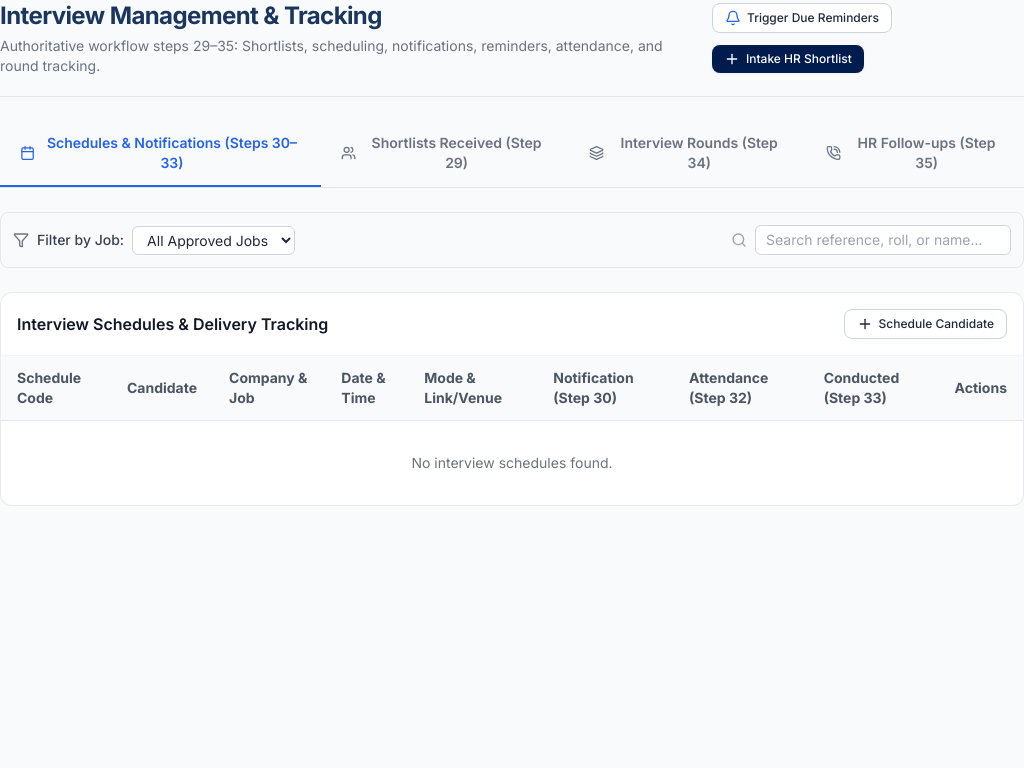
Frontend Interview Management & Tracking Suite (Phase 8 / Steps 29-35) › Step 29: displays shortlisted candidates and allows opening intake modal
// Click HR Shortlists Tab
What coordinates should you click on to do the following:
click the button with test id "tab-shortlists"
I would click on:
 (445, 154)
Its box is x1=321 y1=121 x2=569 y2=187.
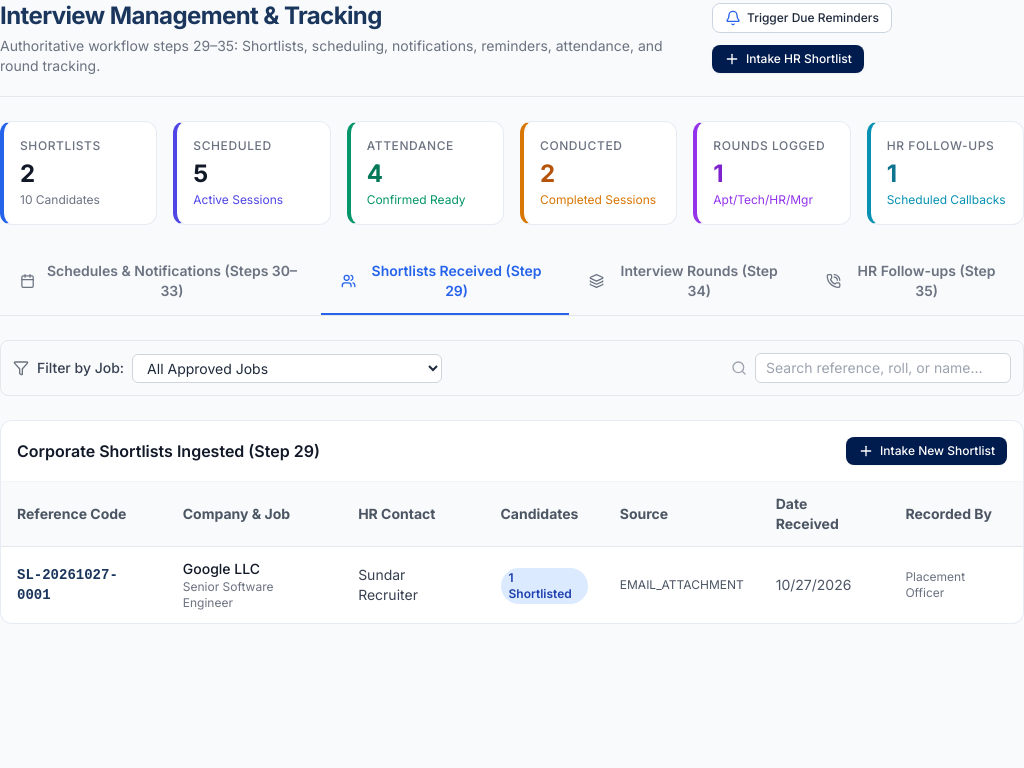
Expected: the text "SL-20261027-0001" is shown, x1=1 y1=546 x2=167 y2=623
Expected: the text "Sundar Recruiter" is shown, x1=342 y1=546 x2=484 y2=623
What coordinates should you click on to do the following:
click the button with test id "intake-shortlist-button"
I would click on:
 (788, 59)
Its box is x1=712 y1=45 x2=864 y2=73.
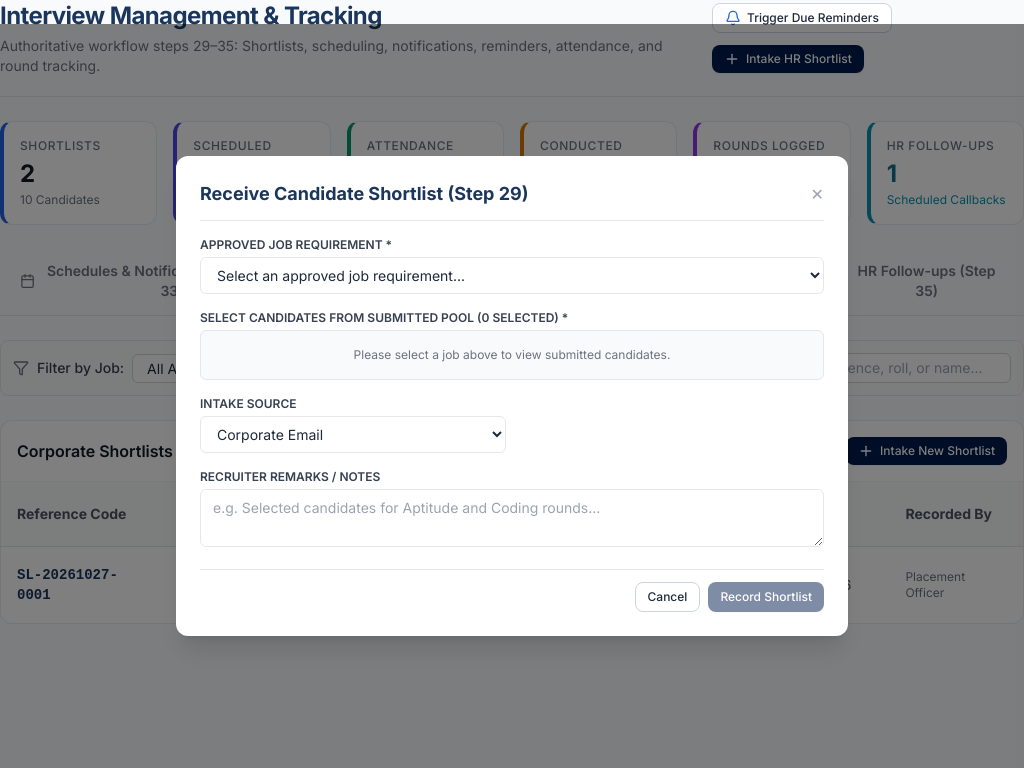
Expected: the heading "Receive Candidate Shortlist (Step 29)" is shown, x1=200 y1=180 x2=528 y2=208
Expected: the dropdown with test id "shortlist-job-select" is shown, x1=200 y1=257 x2=824 y2=294
